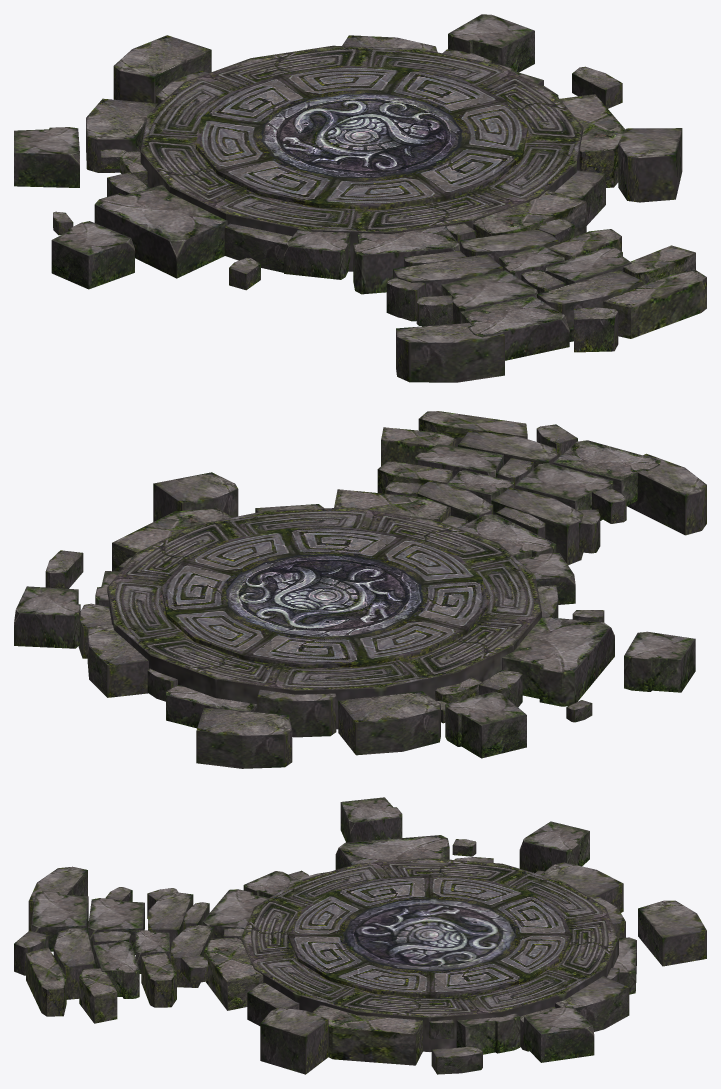
Rendered from xfzc_bj_06_03.FBX.
The picture shows the model from 3 angles, top to bottom: view 1: azimuth 30°, elevation 25°; view 2: azimuth 150°, elevation 25°; view 3: azimuth 270°, elevation 25°; orthographic projection. The views are drawn at different scales.
Visible parts, largest first — view 1: xfzc_bj_06_03; view 2: xfzc_bj_06_03; view 3: xfzc_bj_06_03.
Boxes of the visible parts, left/top/right/bottom form: xfzc_bj_06_03: left=14, top=14, right=706, bottom=382; xfzc_bj_06_03: left=14, top=411, right=706, bottom=768; xfzc_bj_06_03: left=14, top=797, right=706, bottom=1074.
Size of the model in its own units: 3280 by 258 by 3841.
